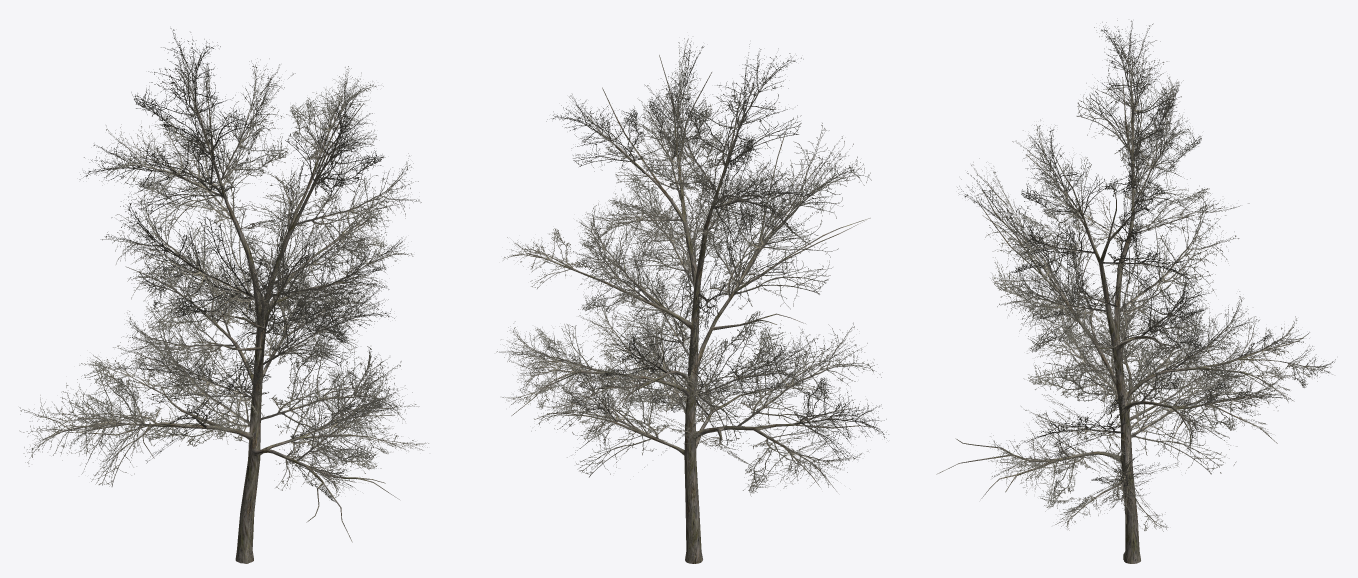
Rendered from derevo_01.gltf.
The picture shows the model from 3 angles, left to right: view 1: azimuth 30°, elevation 25°; view 2: azimuth 150°, elevation 25°; view 3: azimuth 270°, elevation 25°; orthographic projection. The views are drawn at different scales.
Visible parts, largest first — view 1: derevo_01; view 2: derevo_01; view 3: derevo_01.
Boxes of the visible parts, box(x1,y1,x2,y2) form: derevo_01: box(19, 28, 428, 563); derevo_01: box(496, 38, 888, 563); derevo_01: box(936, 20, 1335, 563).
Bounding box in the file's own units: 22.31 × 29.58 × 21.11.
2 materials, 2 textured.
